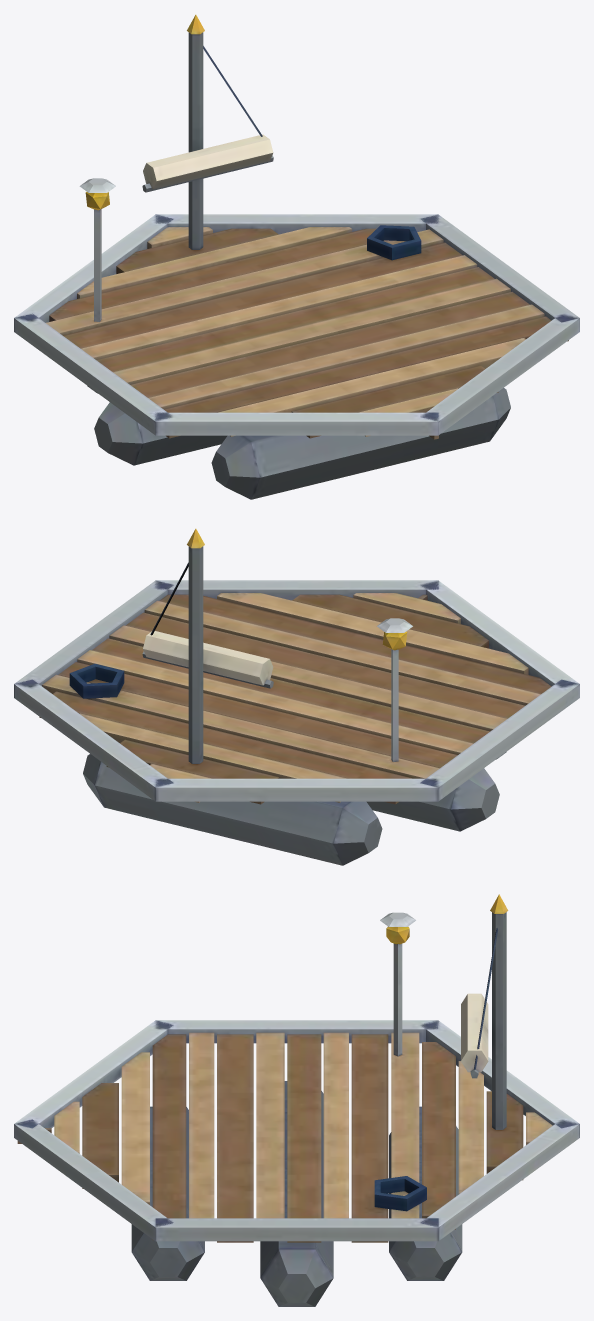
File: raft-a-age20-lite.glb
3 views of the same model, one above another, from view 1: azimuth 30°, elevation 25°; view 2: azimuth 150°, elevation 25°; view 3: azimuth 270°, elevation 25° (orthographic).
Visible parts, largest first — view 1: raft-a-age20-lite; view 2: raft-a-age20-lite; view 3: raft-a-age20-lite.
Part boxes in pixels (bbox=[...]): raft-a-age20-lite: bbox=[14, 14, 579, 499]; raft-a-age20-lite: bbox=[14, 528, 579, 865]; raft-a-age20-lite: bbox=[14, 894, 579, 1306].
Bounding box in the file's own units: 1.6 × 1.18 × 1.85.
1 material, 1 textured.
